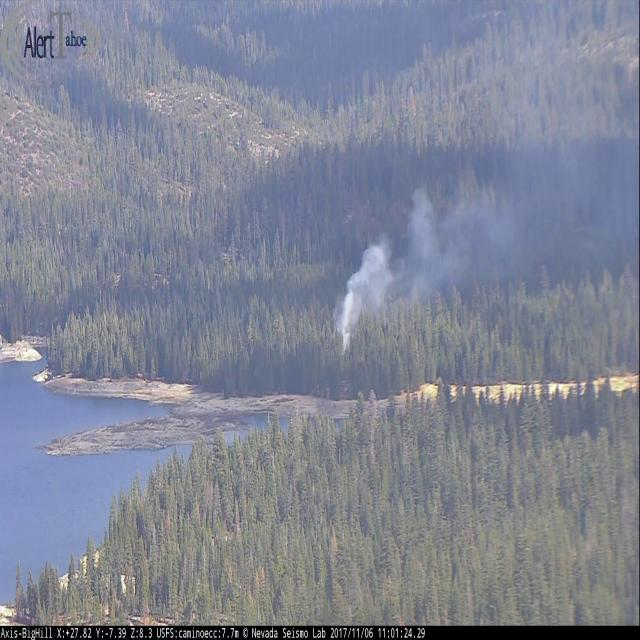smoke: (332, 71, 640, 350)
